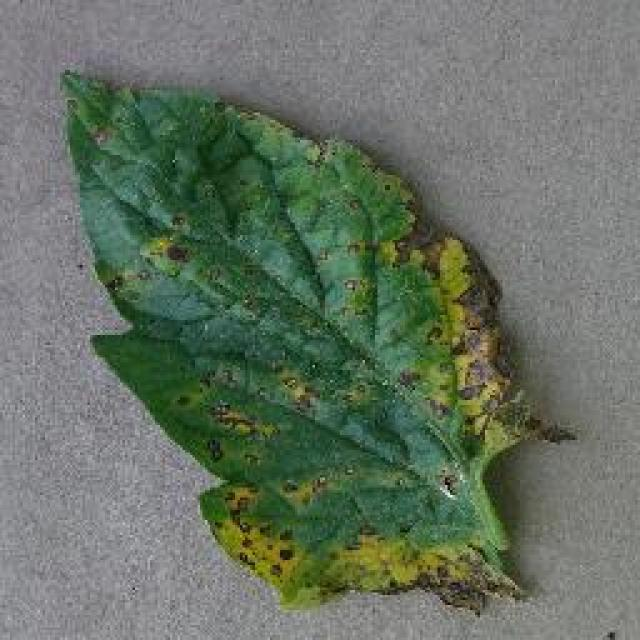Tomato Early blight leaf: (62, 74, 558, 608)
